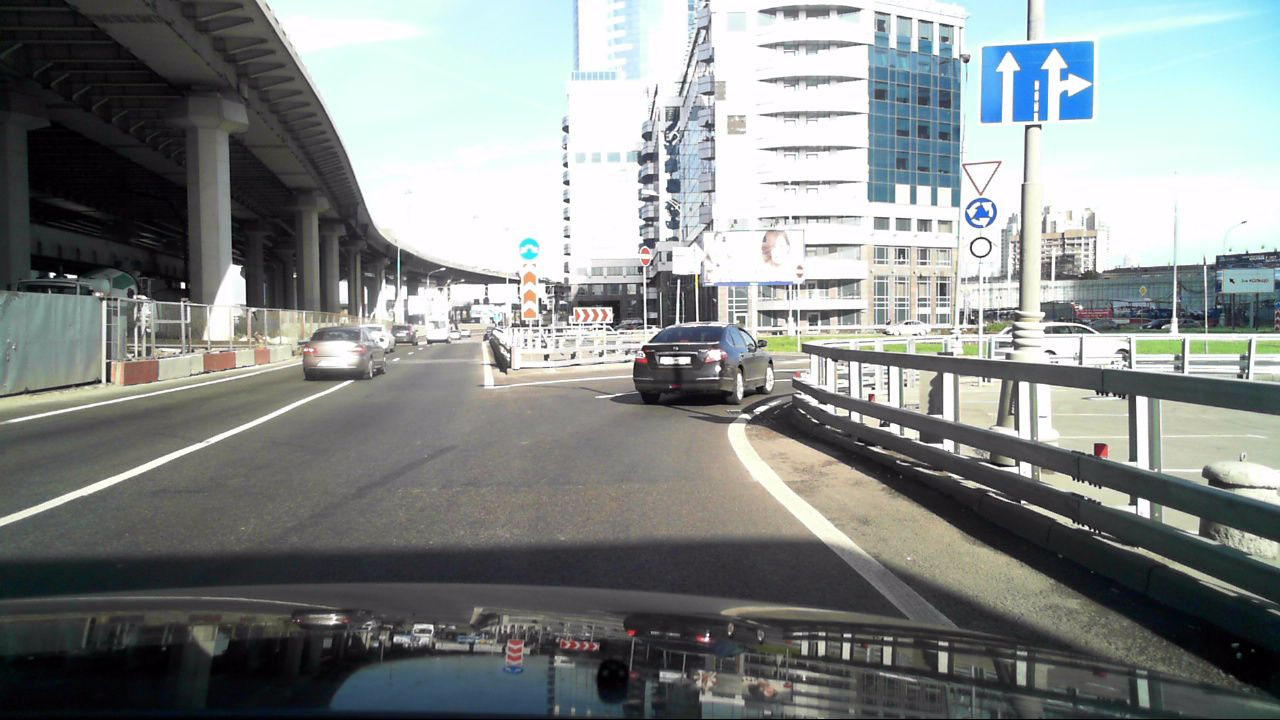Round-About: (967, 196, 998, 230)
